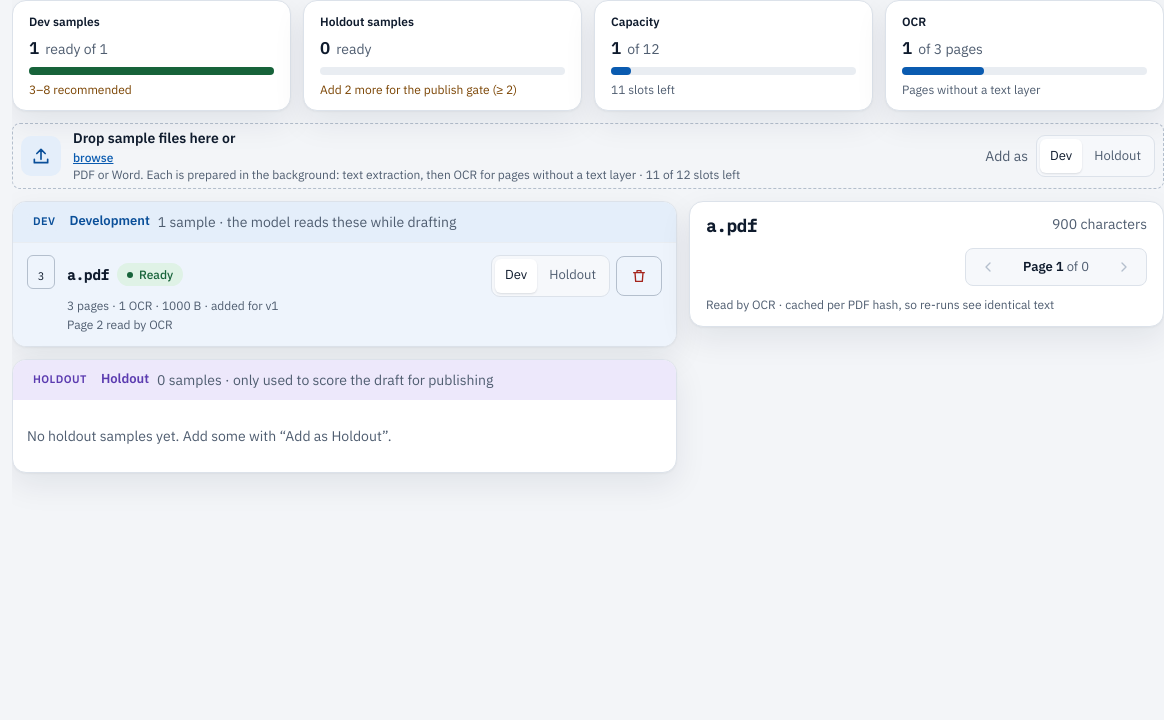
Scenario: SamplesTab capacity and polling › keeps a list error visible once polling has stopped, until a refresh succeeds
The image size is (1164, 720).
Check: the list item "a.pdf" is shown, box [13,242,676,346]
Click the button named "Remove a.pdf" at [639, 276], box [616,256,662,296]
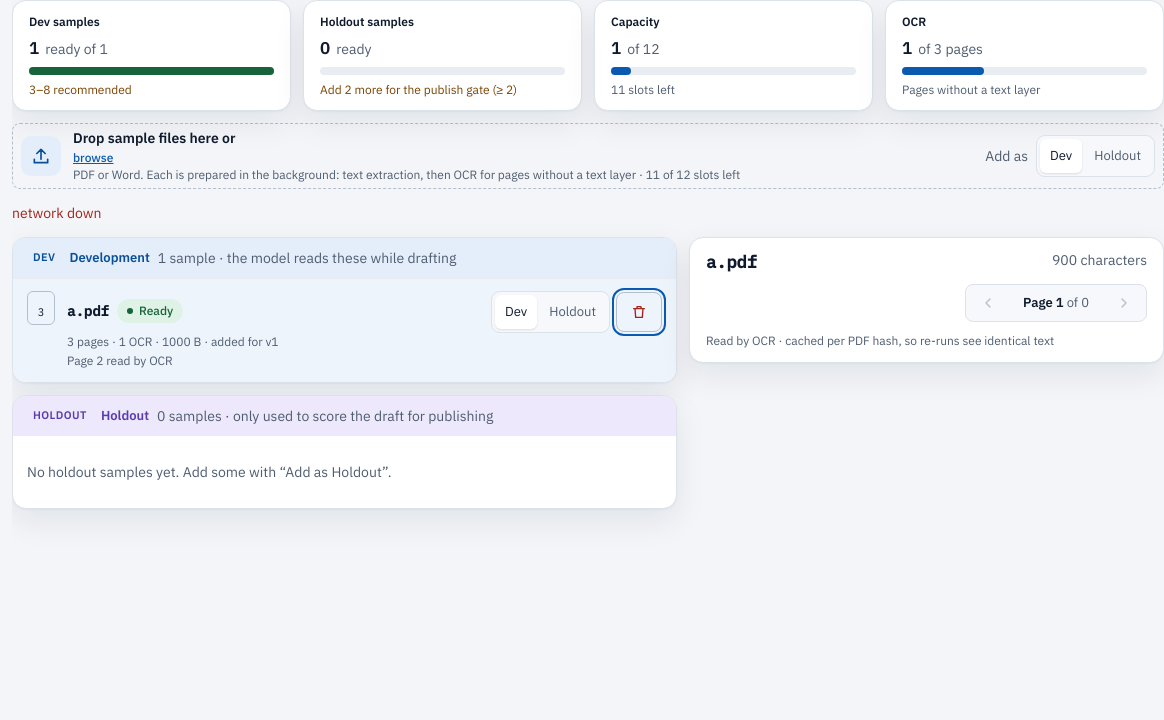
Check: the message reads "network down", box [12,204,102,222]
Click the button named "Remove a.pdf" at [639, 312], box [616,292,662,332]
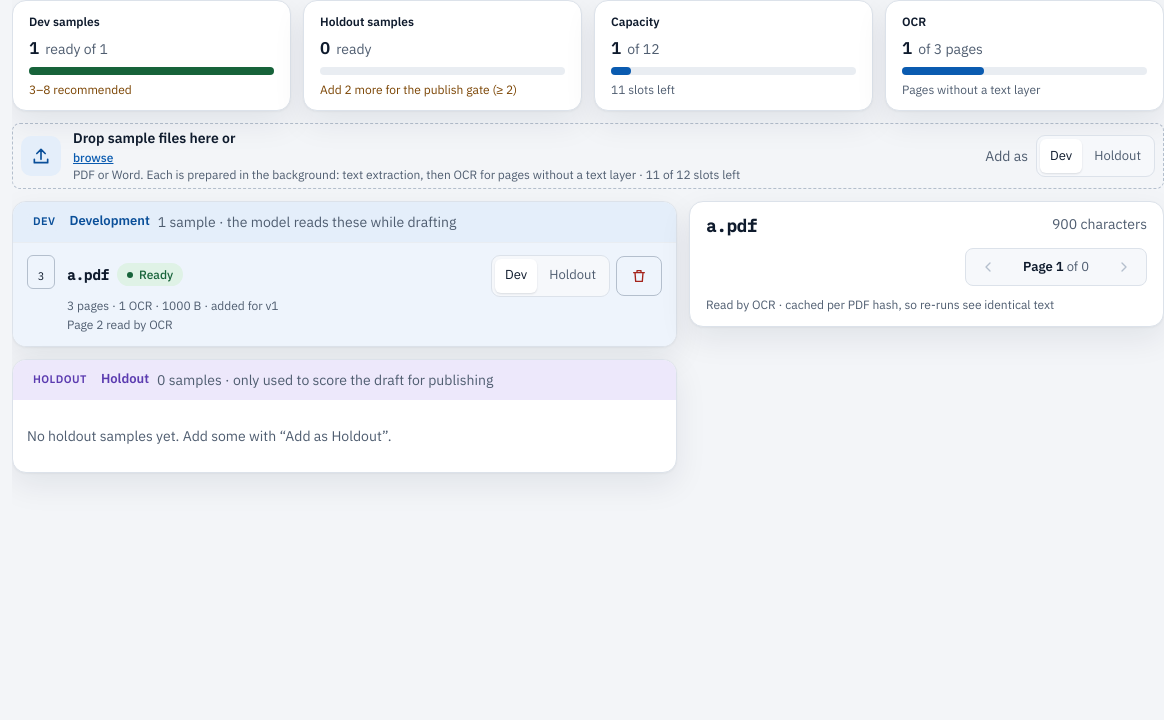
Check: the message "network down" is gone
